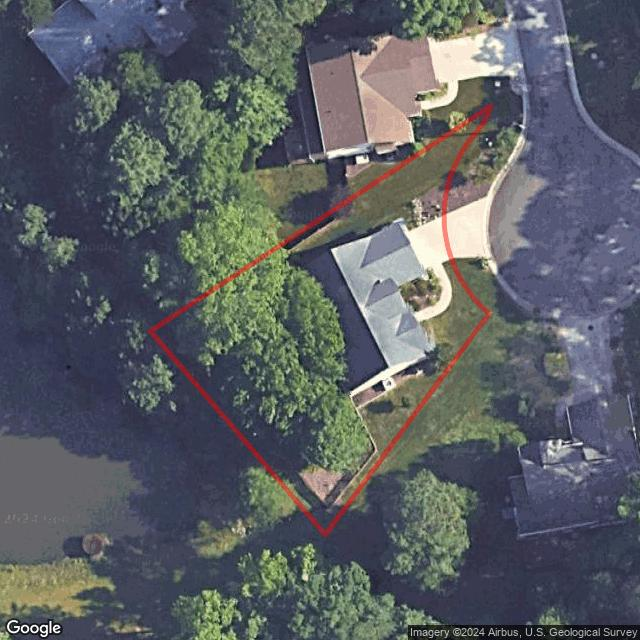Driveway: (406, 215, 453, 274)
Extra-Driveway: (445, 195, 490, 261)
Extra-Lawn: (444, 97, 523, 215), (451, 259, 510, 315)
House: (282, 221, 433, 397)
Lawn: (151, 105, 490, 537)
Other: (352, 316, 438, 409), (399, 268, 440, 314), (402, 189, 443, 232)
Sidewalk: (411, 267, 453, 325)
